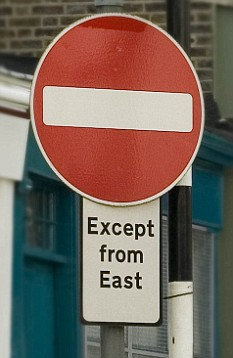No_entry: (27, 13, 206, 206)
